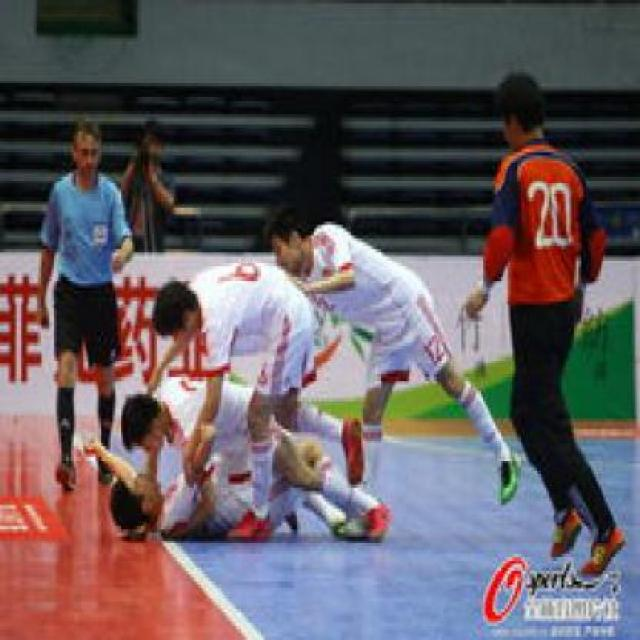fall: (84, 374, 402, 540)
